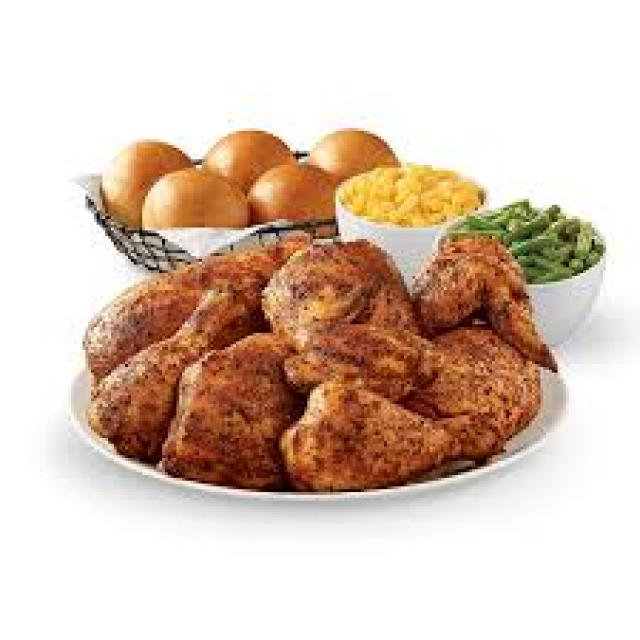Frango: (91, 236, 566, 495)
